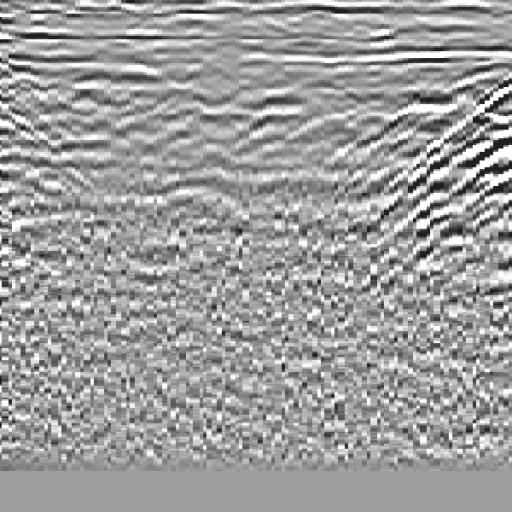metalic: (119, 47, 283, 260)
nonmetalic: (368, 69, 512, 315)
